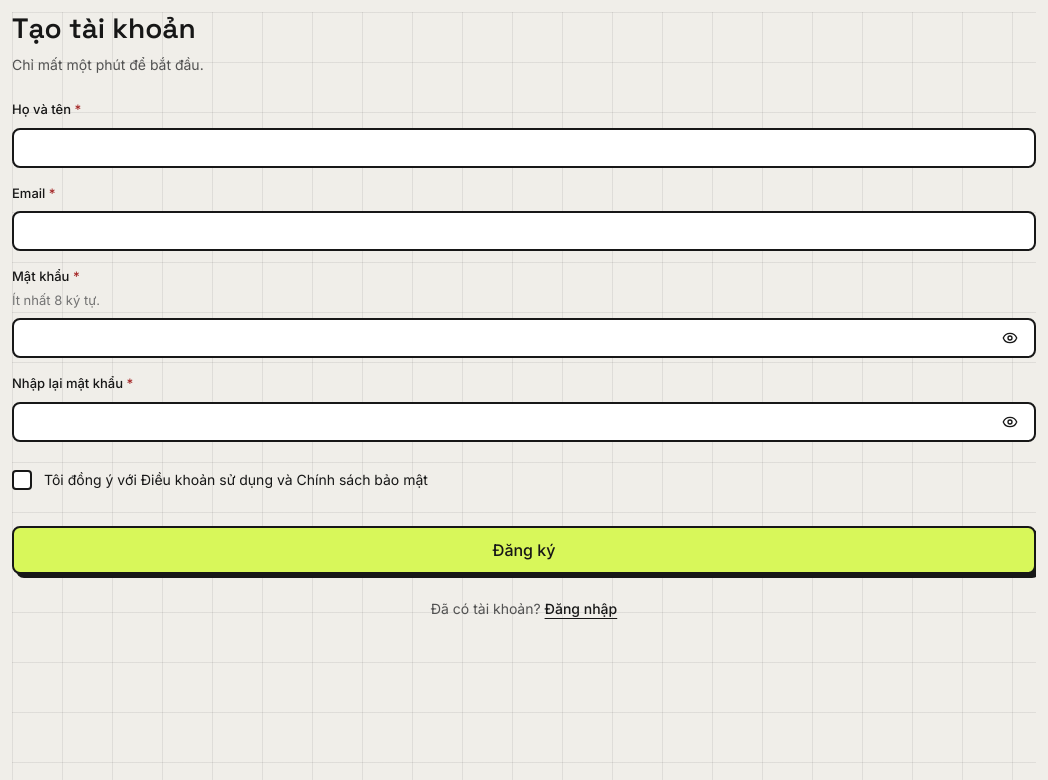
RegisterScreen › marks an email that is already registered
The image size is (1048, 780).
Type "An Nguyễn" into the field labelled "Họ và tên *" at (524, 148), box [26, 130, 1022, 166]
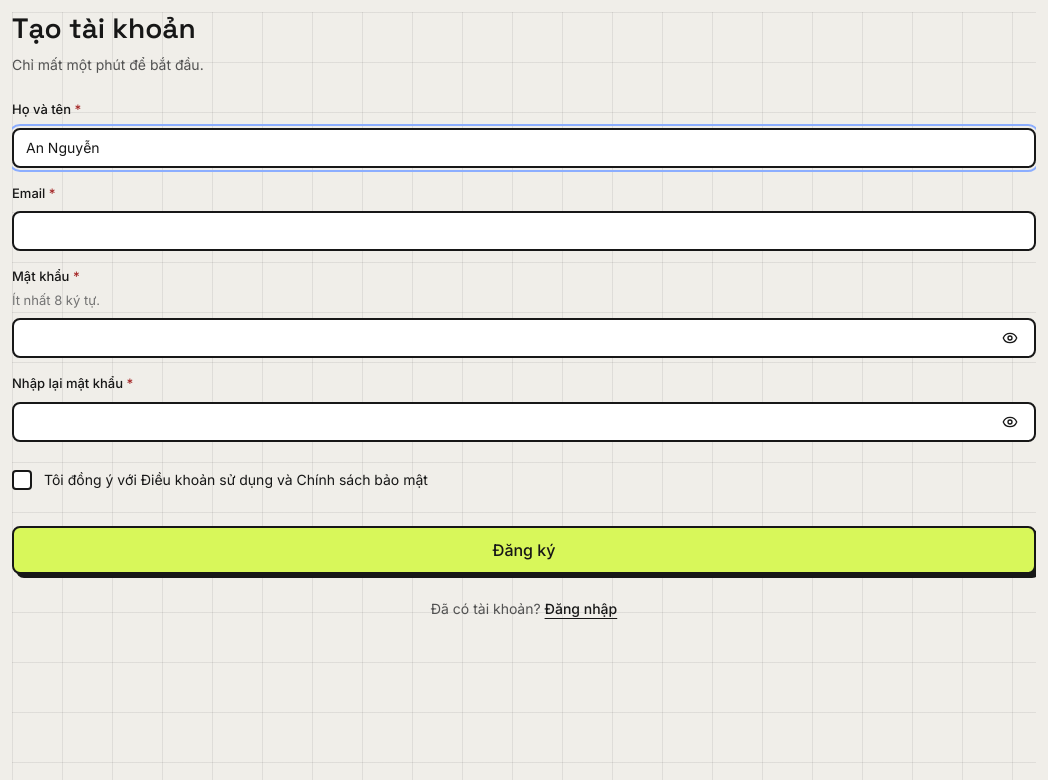
Type "an@example.com" into the field labelled "Email *" at (524, 231), box [26, 213, 1022, 249]
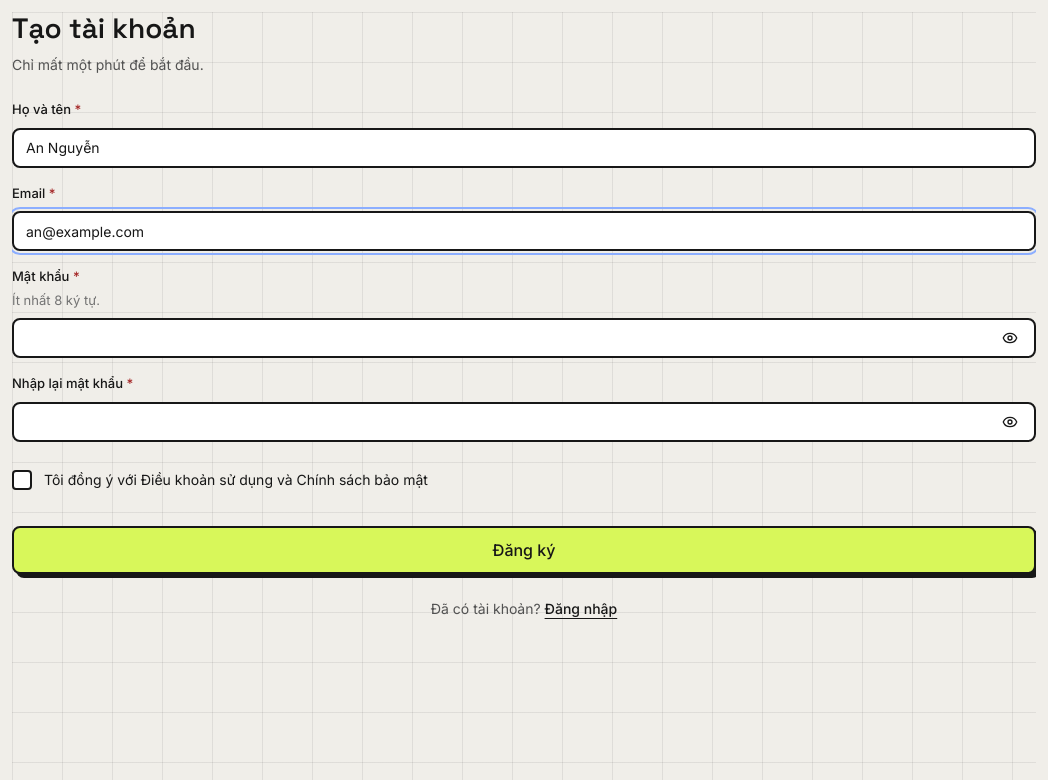
Type "Passw0rd" into the password field labelled "Mật khẩu *" at (508, 338), box [26, 320, 990, 356]
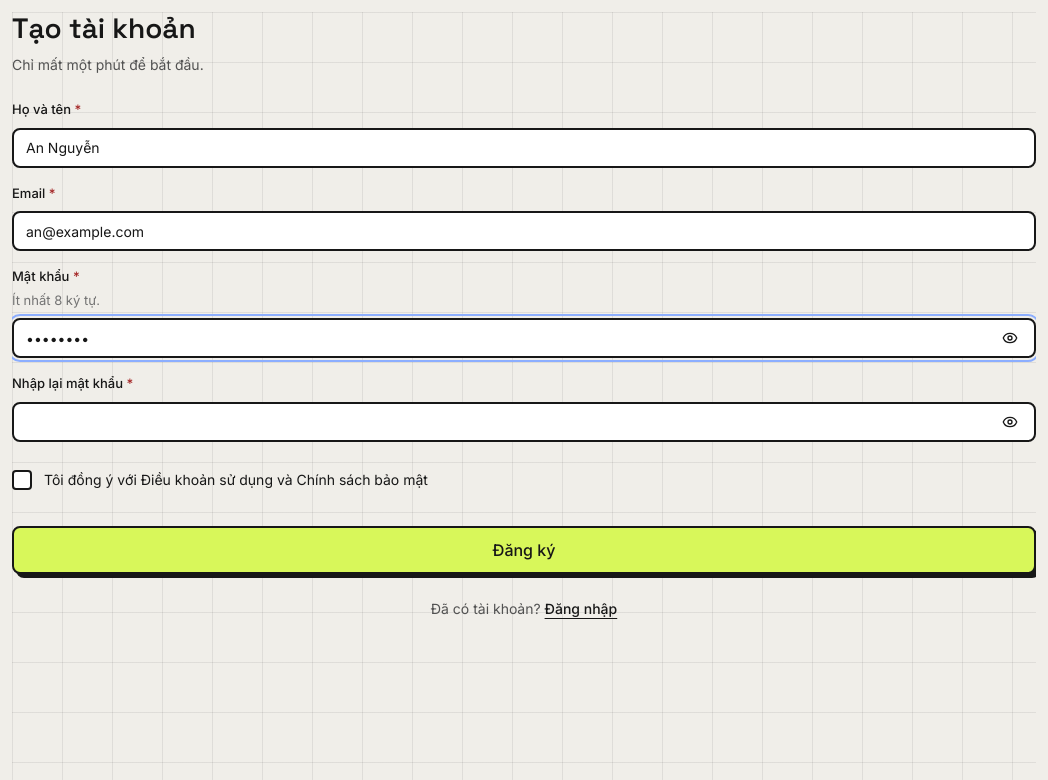
Type "Passw0rd" into the password field labelled "Nhập lại mật khẩu *" at (508, 422), box [26, 404, 990, 440]
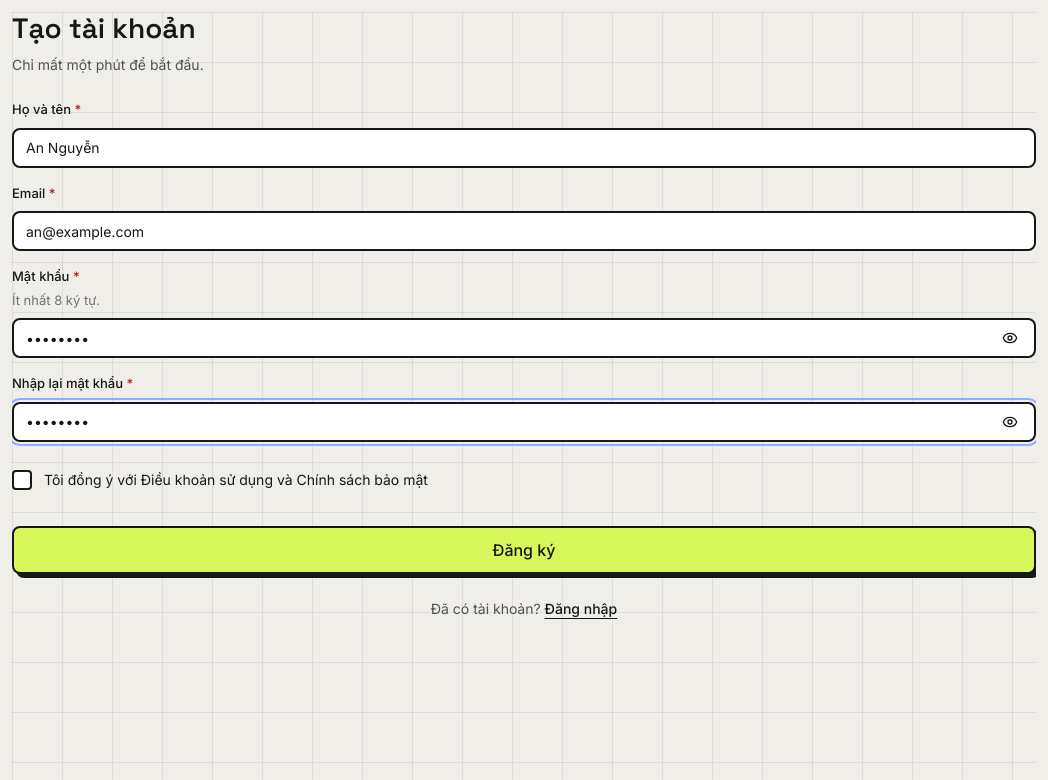
Click the checkbox at (220, 480), box [12, 470, 428, 490]
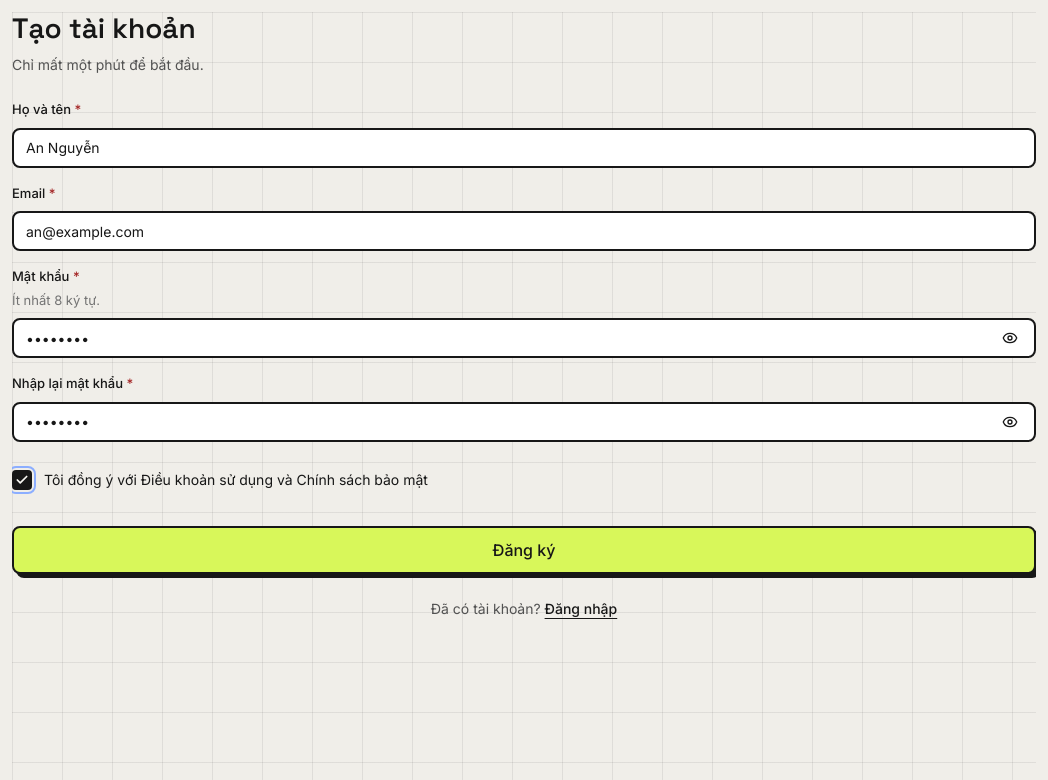
Click the button "Đăng ký" at (524, 550), box [12, 526, 1036, 574]
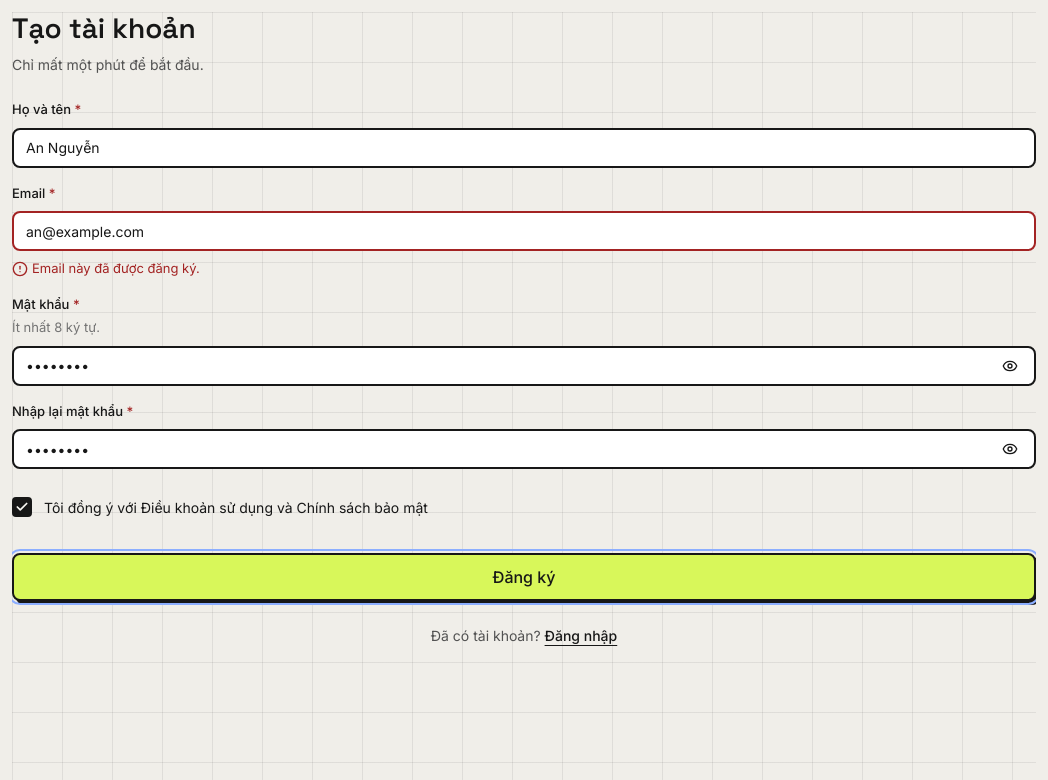
Check: the text "Email này đã được đăng ký." is shown, box [32, 259, 200, 279]
